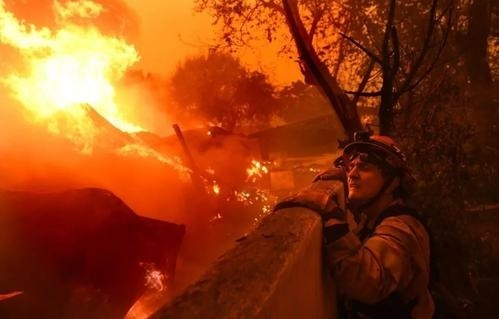fire: (0, 0, 154, 150), (120, 258, 170, 319), (233, 151, 274, 214)
